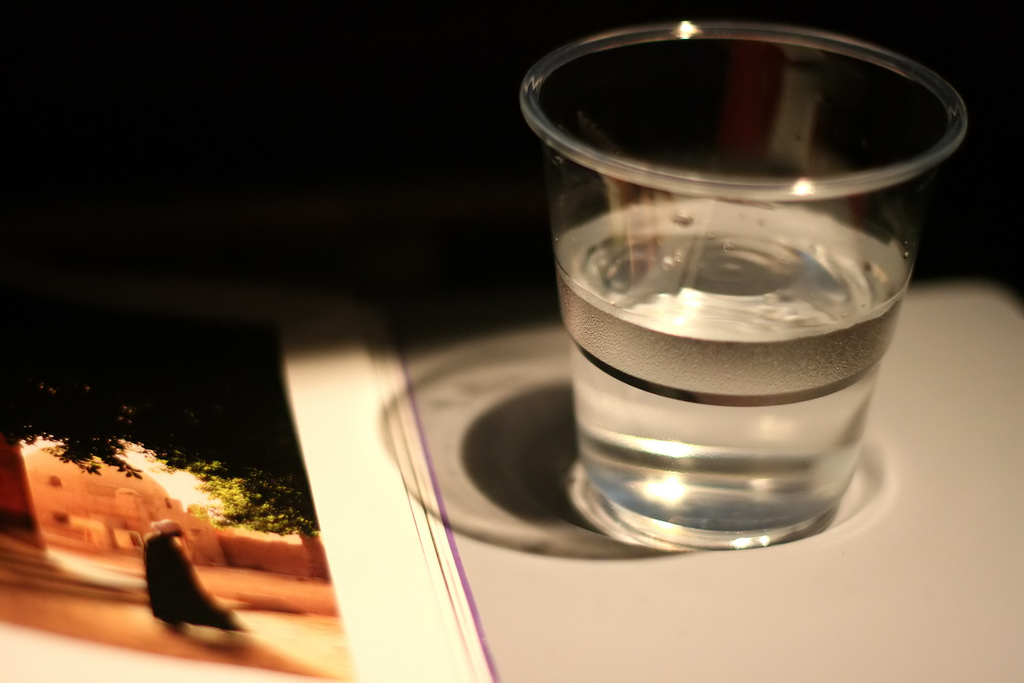glass of water: (540, 64, 886, 548)
